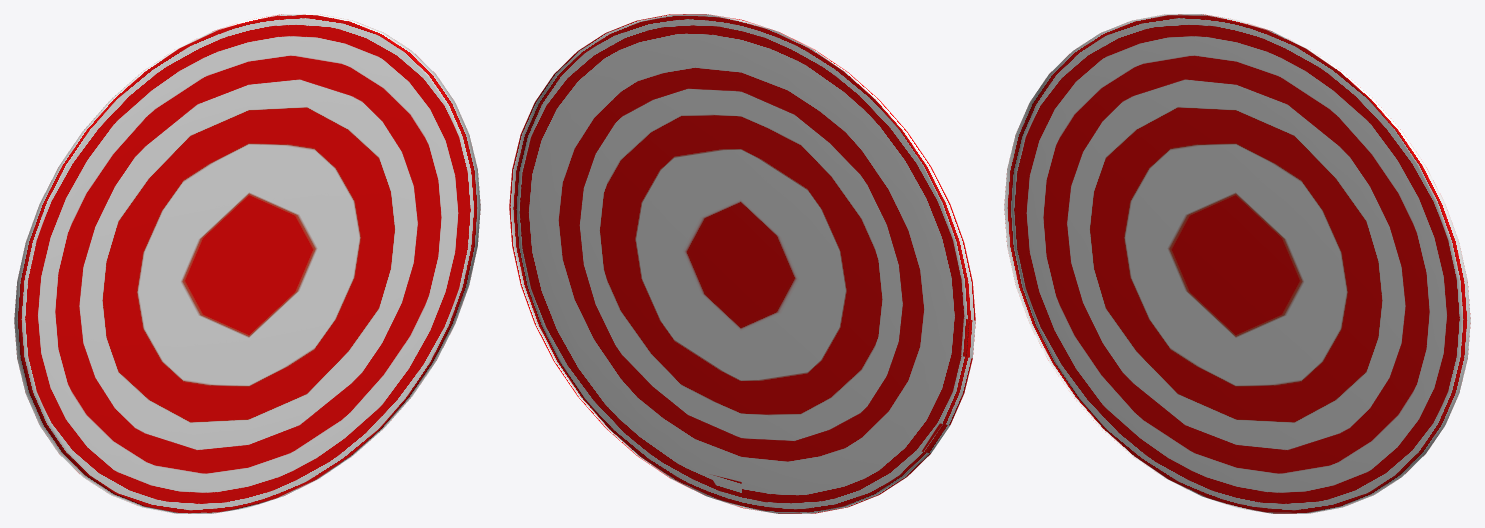
The model's file is Red_Target.fbx.
The picture shows the model from 3 angles, left to right: view 1: azimuth 30°, elevation 25°; view 2: azimuth 150°, elevation 25°; view 3: azimuth 330°, elevation 25°; orthographic projection.
Parts seen in each view (by area): view 1: pSphere1; view 2: pSphere1; view 3: pSphere1.
Boxes of the visible parts, x1,y1,x2,y2 form: pSphere1: (14,14,480,513); pSphere1: (509,14,975,513); pSphere1: (1004,14,1470,513).
Size of the model in its own units: 2 by 2 by 0.0251.
